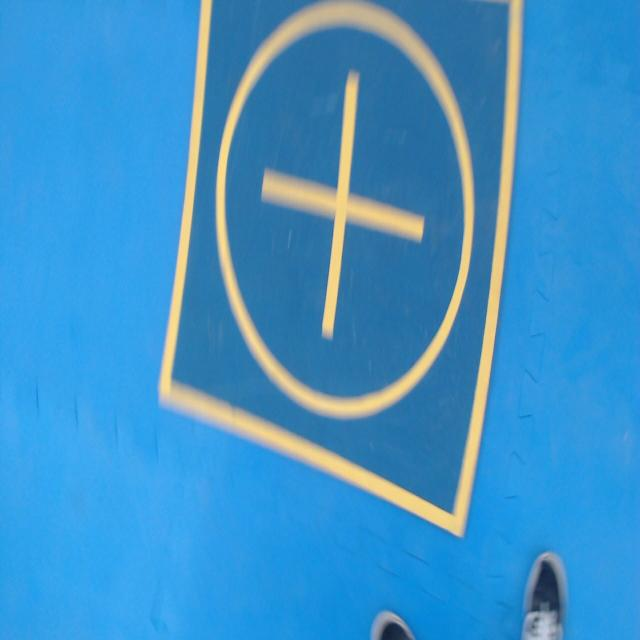base_pouso: (158, 1, 523, 542)
